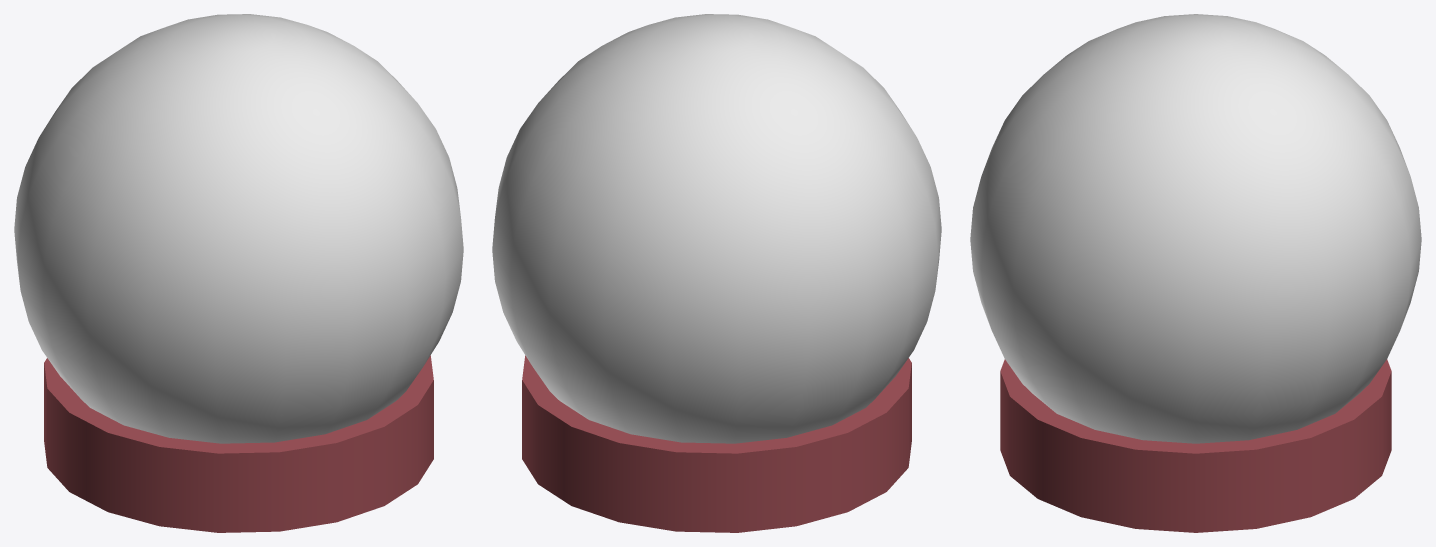
Rendered from snowglobe.fbx.
3 views of the same model, side by side, from view 1: azimuth 30°, elevation 25°; view 2: azimuth 150°, elevation 25°; view 3: azimuth 270°, elevation 25° (orthographic).
Visible parts, largest first — view 1: pSphere3, pCylinder6; view 2: pSphere3, pCylinder6; view 3: pSphere3, pCylinder6.
Part boxes in pixels (bbox=[...]): pSphere3: bbox=[14, 14, 463, 443]; pCylinder6: bbox=[44, 355, 433, 532]; pSphere3: bbox=[492, 14, 941, 443]; pCylinder6: bbox=[522, 355, 911, 532]; pSphere3: bbox=[970, 14, 1421, 443]; pCylinder6: bbox=[1000, 359, 1391, 532].
Bounding box in the file's own units: 0.7857 × 0.7975 × 0.7857.
